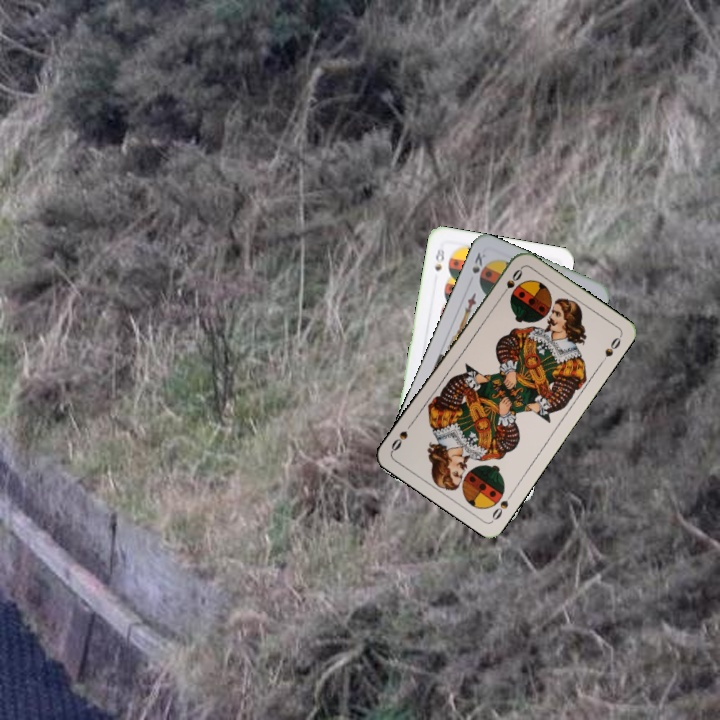S8: (430, 243, 447, 273)
SK: (468, 248, 489, 283)
SO: (496, 264, 525, 300), (488, 487, 516, 523)
